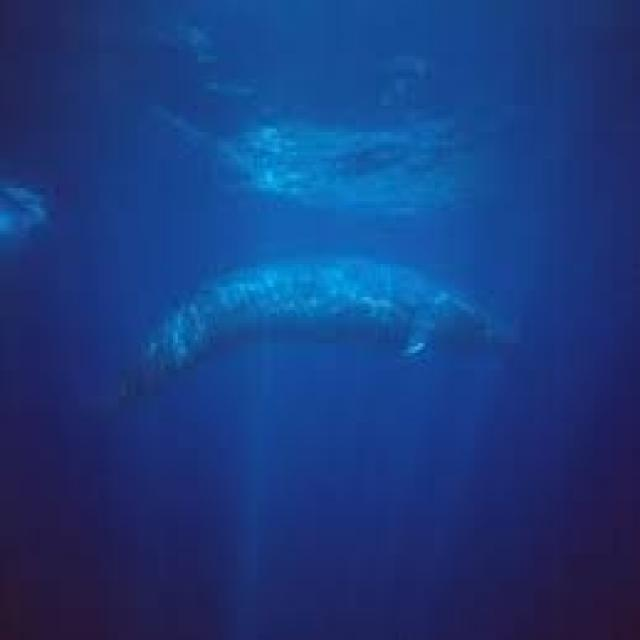blue_whale: (136, 238, 529, 432)
